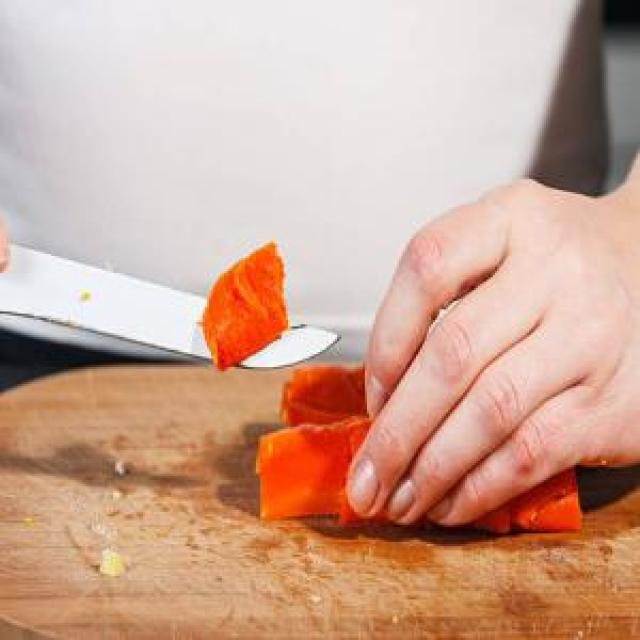knife: (0, 234, 343, 375)
